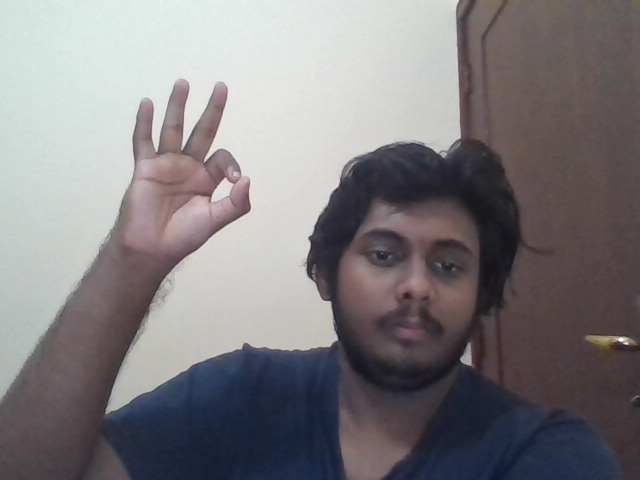ok: (122, 79, 252, 260)
